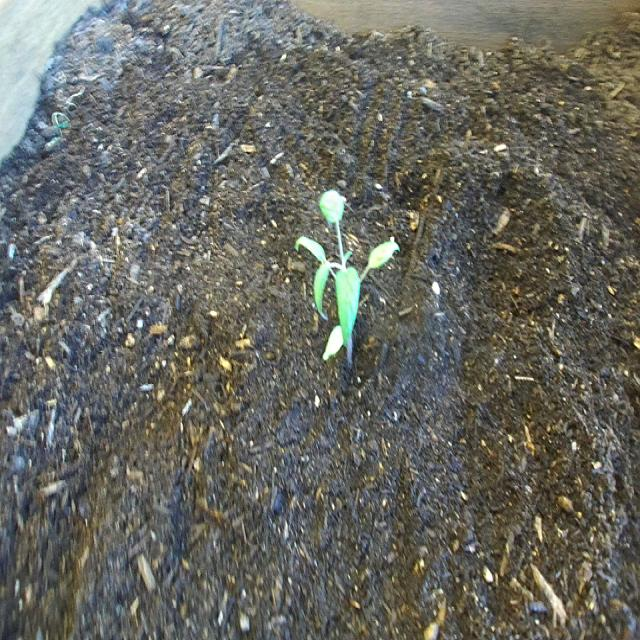Healthy: (290, 183, 404, 379)
